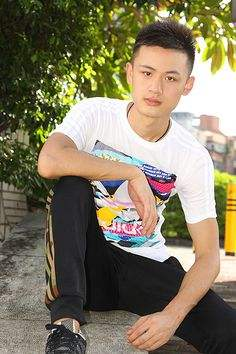person: (78, 15, 214, 266)
